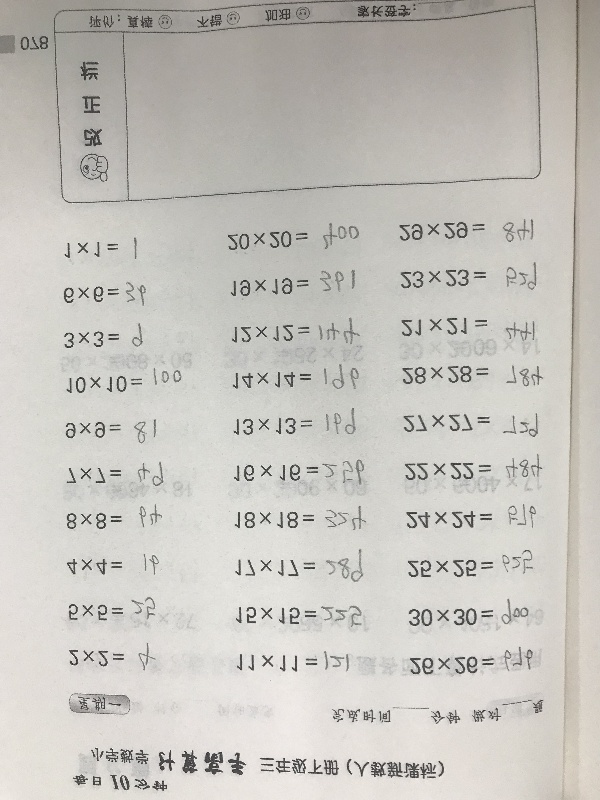equation: (231, 459, 371, 501), (231, 551, 366, 592), (227, 264, 359, 303), (395, 215, 542, 250), (398, 312, 539, 348), (401, 361, 542, 397), (227, 219, 359, 257), (64, 362, 184, 402), (395, 263, 540, 296), (403, 501, 537, 535), (399, 410, 542, 441), (404, 456, 547, 487), (229, 405, 359, 439), (231, 360, 361, 394), (231, 317, 361, 351), (232, 502, 370, 534), (404, 596, 533, 630), (232, 649, 352, 685), (404, 549, 537, 581), (405, 648, 537, 679), (232, 602, 366, 630), (66, 504, 165, 538), (62, 319, 147, 356), (58, 231, 143, 268), (64, 597, 160, 629), (65, 643, 161, 675), (68, 549, 164, 581), (61, 418, 159, 449), (63, 462, 165, 490), (59, 278, 149, 309)
